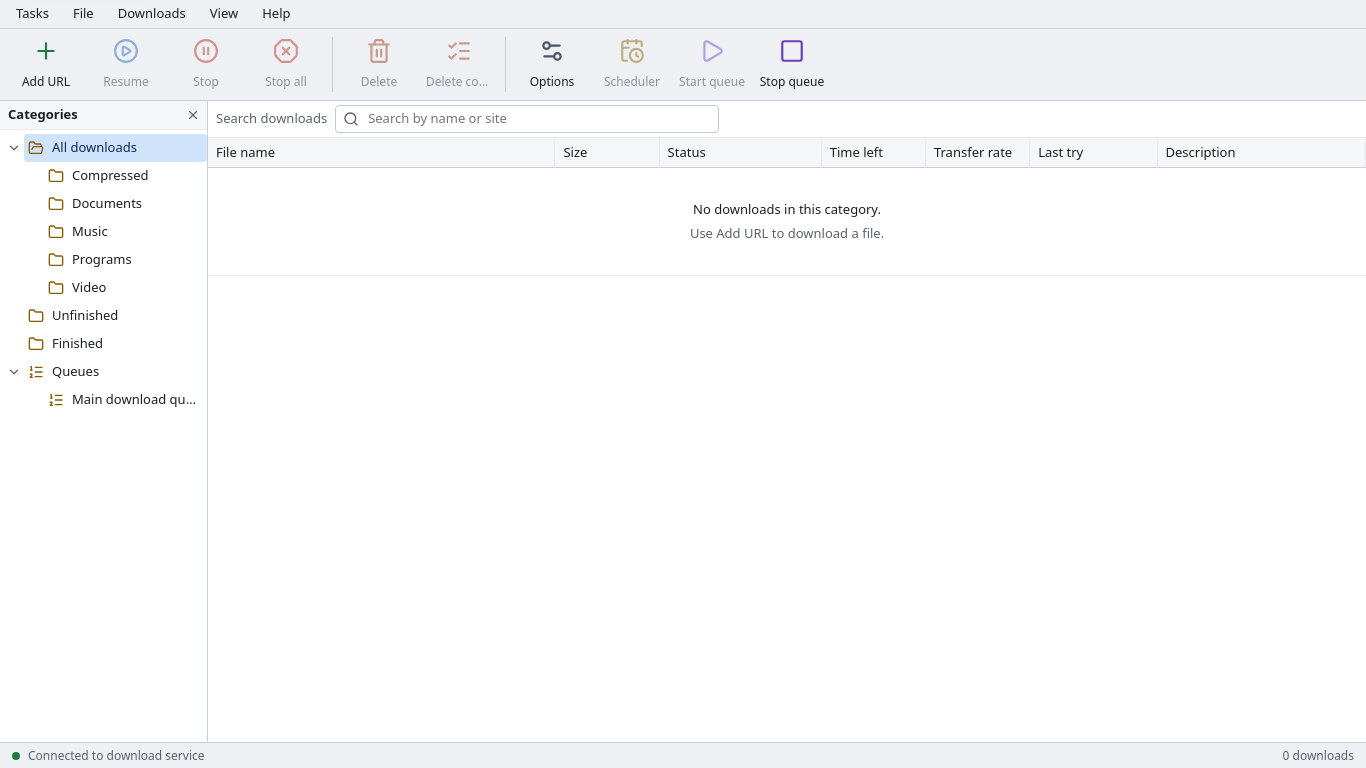
Test: close behaviour › keeps the plain browser honest: no close setting and no exit
Click the menu item "Tasks" at (32,14), box [4,0,61,28]
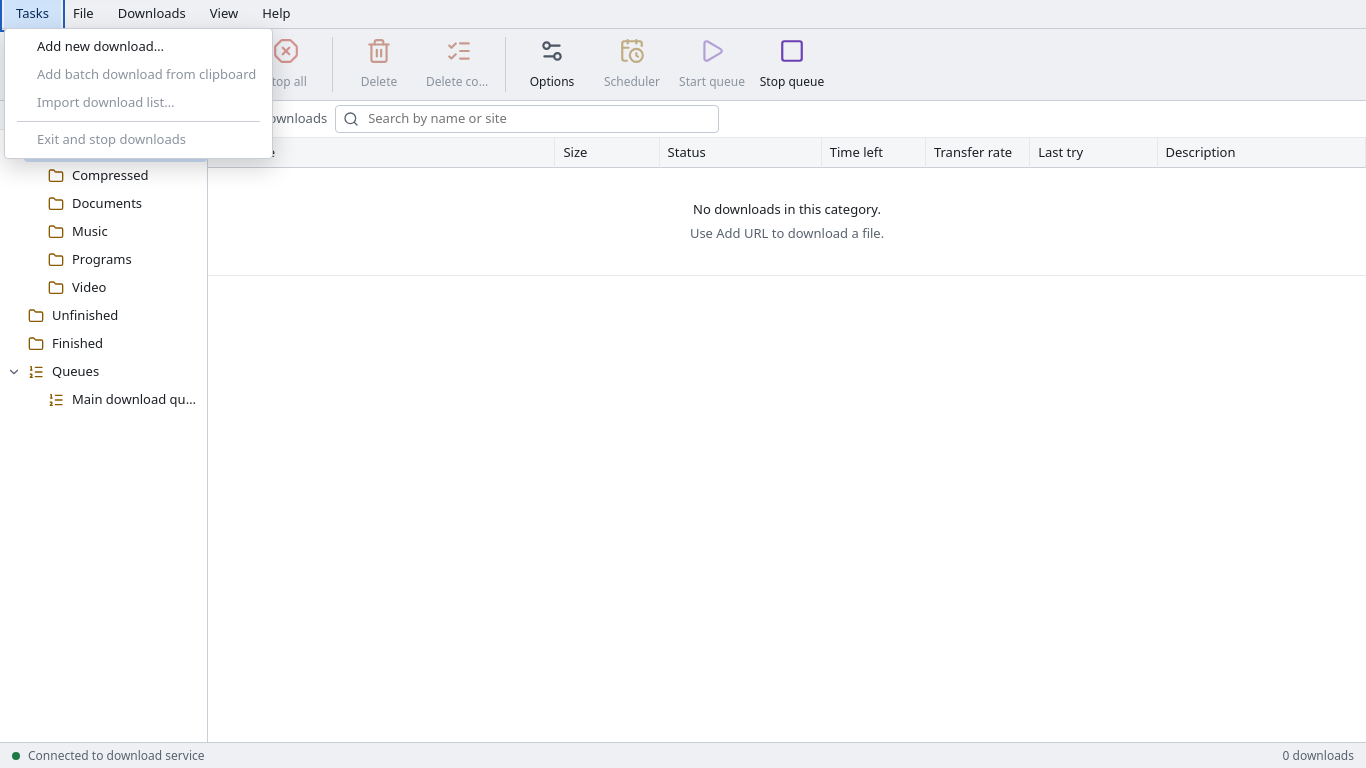
Press Escape
Click the button "Options" at (552,64), box [514,33,590,96]
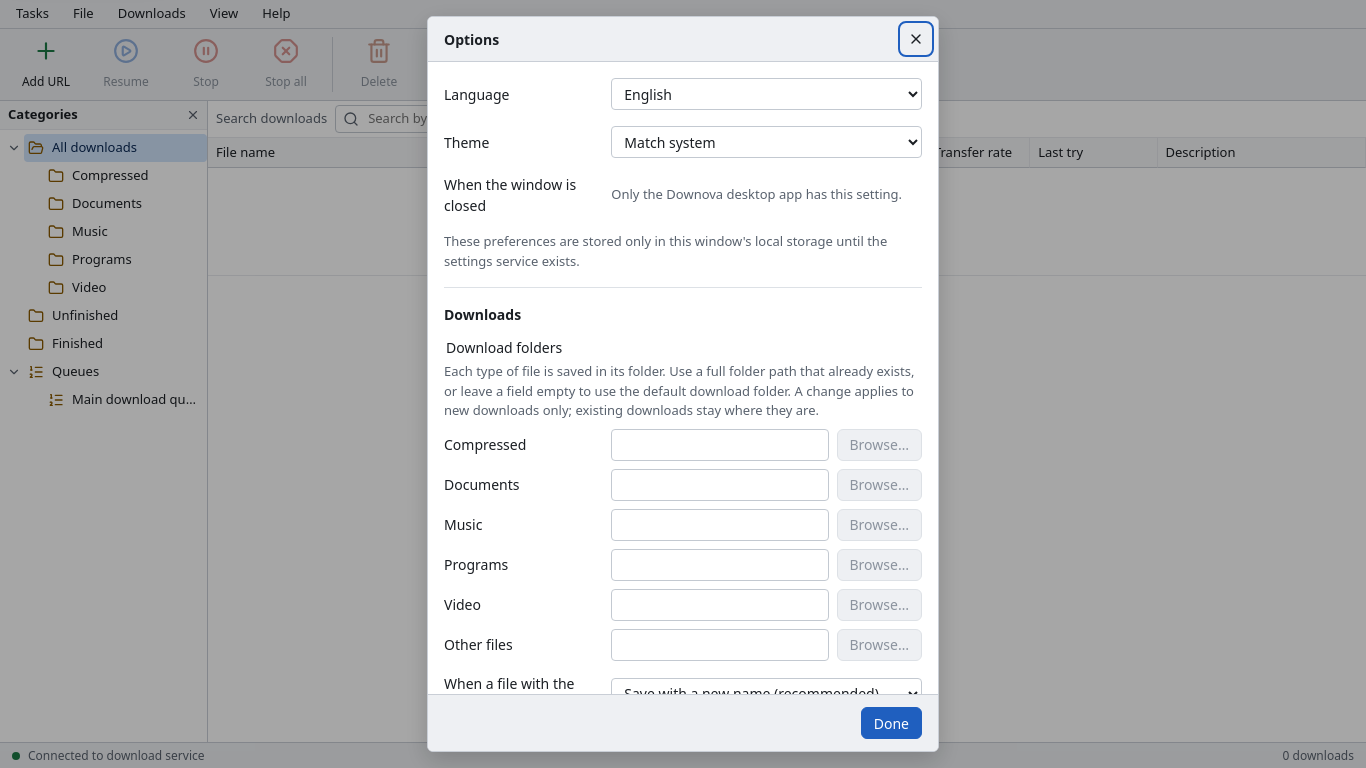
Now the text "Only the Downova desktop app has this setting." is shown, box [611,185,922,205]
